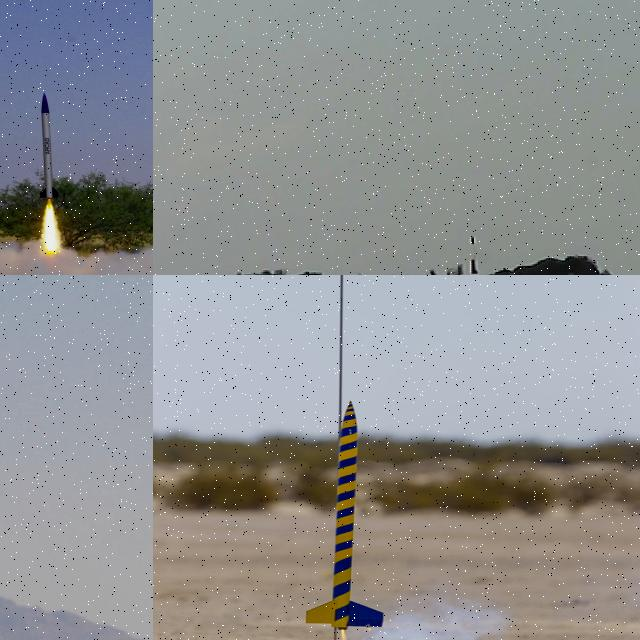Rocket: (304, 400, 386, 632), (39, 92, 59, 199), (469, 236, 479, 274)
